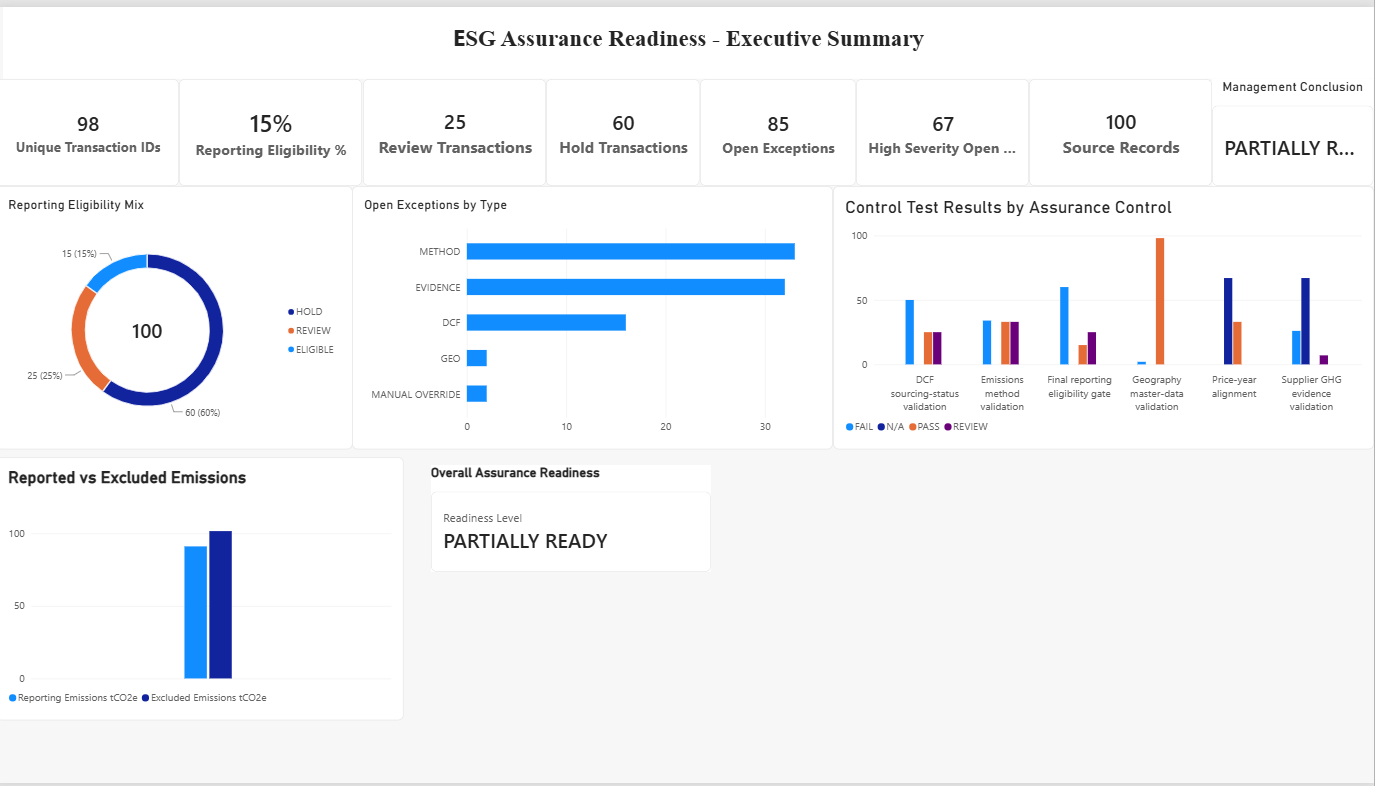

The dashboard page shown, as its layout file describes it:
{"tool":"powerbi","page":{"name":"ESG Assurance Readiness - Management View","canvas":[1920,1080],"ordinal":0},"visuals":[{"type":"textbox","box":[9.5,0,1910.5,100],"z":0},{"type":"cardVisual","fields":{"Data":["fact_exception.Unique Transaction IDs"]},"box":[0,100,255.5,149.2],"z":1000},{"type":"cardVisual","fields":{"Data":["fact_reporting_transaction.Reporting Eligibility %"]},"box":[255.5,100,255.5,149.2],"z":2000},{"type":"cardVisual","fields":{"Data":["fact_reporting_transaction.Review Transactions"]},"box":[510.9,100,255.5,149.2],"z":3000},{"type":"cardVisual","fields":{"Data":["fact_reporting_transaction.Hold Transactions"]},"box":[766.4,100,214.2,149.2],"z":4000},{"type":"cardVisual","fields":{"Data":["fact_reporting_transaction.Open Exceptions"]},"box":[980.6,100,217.4,149.2],"z":5000},{"type":"cardVisual","fields":{"Data":["fact_reporting_transaction.High Severity Open Exceptions"]},"box":[1198,100,241.2,149.2],"z":6000},{"type":"donutChart","title":"Reporting Eligibility Mix","fields":{"Category":["fact_reporting_transaction.governed_reporting_eligibility"],"Y":["CountNonNull(fact_reporting_transaction.transaction_id)"]},"box":[0,249.1,496.7,366.5],"z":7000},{"type":"clusteredColumnChart","title":"Control Test Results by Assurance Control","fields":{"Category":["dim_control.control_name"],"Series":["fact_control_result.control_result"],"Y":["fact_control_result.Control Test Count"]},"box":[1166.3,249.1,753.7,366.5],"z":8000},{"type":"barChart","title":"Open Exceptions by Type","fields":{"Category":["fact_exception.exception_type"],"Y":["exception_register.Exception Count"]},"box":[496.7,249.1,669.6,366.5],"z":9000},{"type":"cardVisual","title":"Overall Assurance Readiness","fields":{"Data":["assurance_readiness_final.Readiness Level"]},"box":[606.1,637.9,390.3,149.2],"z":10000},{"type":"cardVisual","fields":{"Data":["fact_reporting_transaction.Source Records"]},"box":[1439.2,100,255.5,149.2],"z":11000},{"type":"cardVisual","title":"Management Conclusion","fields":{"Data":["assurance_readiness_final.Management Conclusion"]},"box":[1694.7,100,225.3,149.2],"z":12000},{"type":"clusteredColumnChart","title":"Reported vs Excluded Emissions","fields":{"Y":["fact_reporting_transaction.Reporting Emissions tCO2e","fact_reporting_transaction.Excluded Emissions tCO2e"]},"box":[0,626.8,568.1,366.5],"z":13000}]}

Visuals, with their boxes in screenshot pixels (x1, y1, x2, y2), scaled from the page's 1920x1080 canvas onto the 1375x786 screenshot:
textbox: x1=7 y1=0 x2=1374 y2=73
cardVisual - fact_exception.Unique Transaction IDs: x1=0 y1=73 x2=183 y2=181
cardVisual - fact_reporting_transaction.Reporting Eligibility %: x1=183 y1=73 x2=366 y2=181
cardVisual - fact_reporting_transaction.Review Transactions: x1=366 y1=73 x2=549 y2=181
cardVisual - fact_reporting_transaction.Hold Transactions: x1=549 y1=73 x2=702 y2=181
cardVisual - fact_reporting_transaction.Open Exceptions: x1=702 y1=73 x2=858 y2=181
cardVisual - fact_reporting_transaction.High Severity Open Exceptions: x1=858 y1=73 x2=1031 y2=181
"Reporting Eligibility Mix" donutChart: x1=0 y1=181 x2=356 y2=448
"Control Test Results by Assurance Control" clusteredColumnChart: x1=835 y1=181 x2=1374 y2=448
"Open Exceptions by Type" barChart: x1=356 y1=181 x2=835 y2=448
"Overall Assurance Readiness" cardVisual: x1=434 y1=464 x2=714 y2=573
cardVisual - fact_reporting_transaction.Source Records: x1=1031 y1=73 x2=1214 y2=181
"Management Conclusion" cardVisual: x1=1214 y1=73 x2=1374 y2=181
"Reported vs Excluded Emissions" clusteredColumnChart: x1=0 y1=456 x2=407 y2=723
